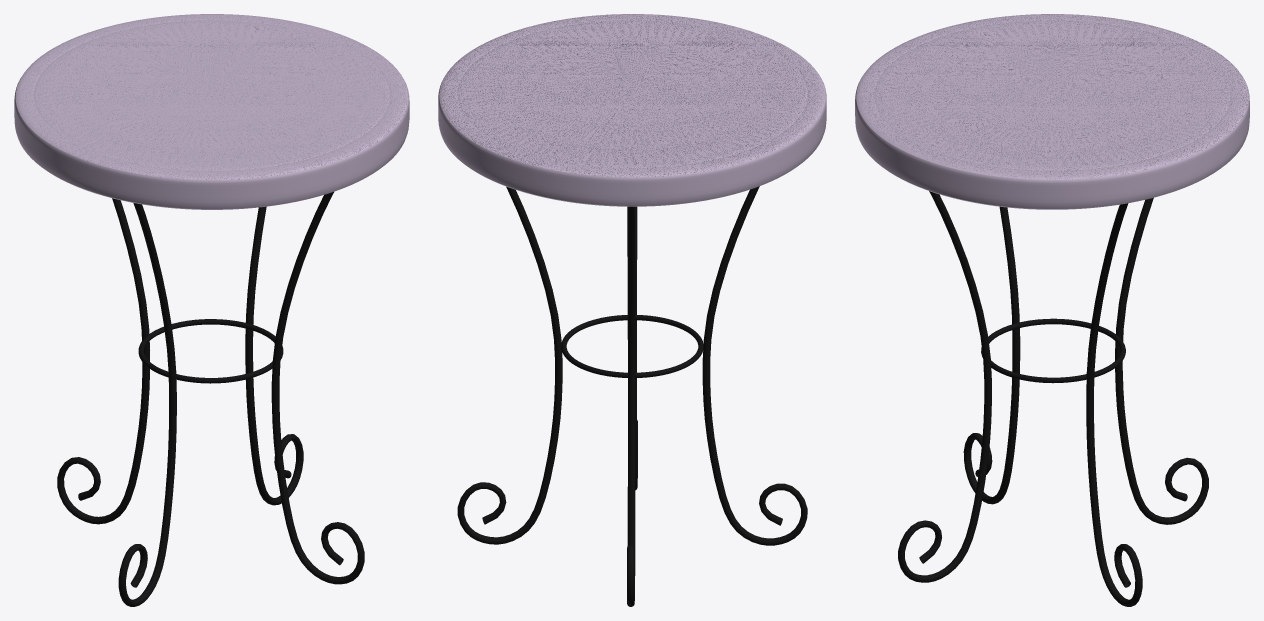
Rendered from roundTable2.obj.
3 renders of one model, left to right at view 1: azimuth 30°, elevation 25°; view 2: azimuth 150°, elevation 25°; view 3: azimuth 270°, elevation 25°, orthographic.
Visible parts, largest first — view 1: RoundTable_revolvedSurface2detachedSurface2_8, RoundTable_revolvedSurface2detachedSurface4_9, RoundTable_JillLeg1_1, RoundTable_JillLeg4_5, RoundTable_JillLeg2_3, RoundTable_JillLeg3_4, RoundTable_Ring_2; view 2: RoundTable_revolvedSurface2detachedSurface2_8, RoundTable_revolvedSurface2detachedSurface4_9, RoundTable_JillLeg4_5, RoundTable_JillLeg3_4, RoundTable_JillLeg2_3, RoundTable_Ring_2, RoundTable_JillLeg1_1; view 3: RoundTable_revolvedSurface2detachedSurface2_8, RoundTable_revolvedSurface2detachedSurface4_9, RoundTable_JillLeg1_1, RoundTable_JillLeg3_4, RoundTable_JillLeg2_3, RoundTable_JillLeg4_5, RoundTable_Ring_2.
Boxes of the visible parts, box(x1,y1,x2,y2) form: RoundTable_revolvedSurface2detachedSurface2_8: box(15, 14, 408, 179); RoundTable_revolvedSurface2detachedSurface4_9: box(14, 78, 409, 208); RoundTable_JillLeg1_1: box(271, 192, 364, 584); RoundTable_JillLeg4_5: box(118, 203, 176, 606); RoundTable_JillLeg2_3: box(57, 198, 149, 524); RoundTable_JillLeg3_4: box(245, 206, 303, 505); RoundTable_Ring_2: box(138, 319, 283, 383); RoundTable_revolvedSurface2detachedSurface2_8: box(439, 14, 825, 177); RoundTable_revolvedSurface2detachedSurface4_9: box(438, 78, 826, 205); RoundTable_JillLeg4_5: box(702, 186, 807, 545); RoundTable_JillLeg3_4: box(457, 186, 562, 544); RoundTable_JillLeg2_3: box(627, 206, 635, 606); RoundTable_Ring_2: box(561, 315, 703, 377); RoundTable_JillLeg1_1: box(634, 206, 637, 490); RoundTable_revolvedSurface2detachedSurface2_8: box(856, 14, 1248, 179); RoundTable_revolvedSurface2detachedSurface4_9: box(855, 77, 1249, 208); RoundTable_JillLeg1_1: box(898, 191, 991, 582); RoundTable_JillLeg3_4: box(1086, 203, 1142, 606); RoundTable_JillLeg2_3: box(1115, 197, 1208, 524); RoundTable_JillLeg4_5: box(963, 206, 1020, 504); RoundTable_Ring_2: box(981, 318, 1125, 383).
Size of the model in its own units: 53.81 by 68.8 by 53.81.
